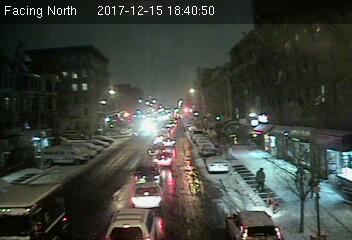car: (104, 208, 159, 240), (223, 211, 281, 240), (130, 185, 163, 211), (132, 167, 160, 184), (206, 157, 231, 173), (154, 151, 172, 165)
pedestrian: (255, 167, 266, 192)
ups: (2, 180, 69, 240)
